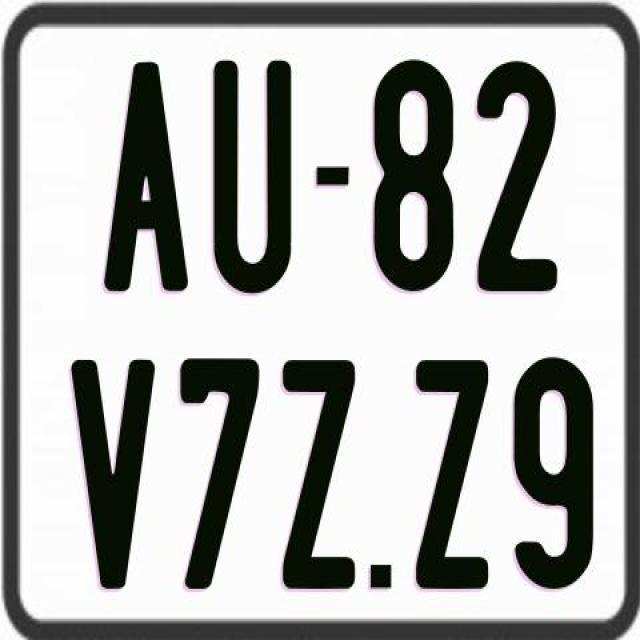2: (476, 61, 564, 294)
7: (180, 354, 260, 590)
8: (372, 56, 456, 288)
9: (510, 352, 594, 589)
A: (102, 60, 194, 298)
U: (210, 61, 294, 294)
V: (66, 358, 158, 596)
Z: (278, 358, 358, 594), (414, 356, 490, 594)
